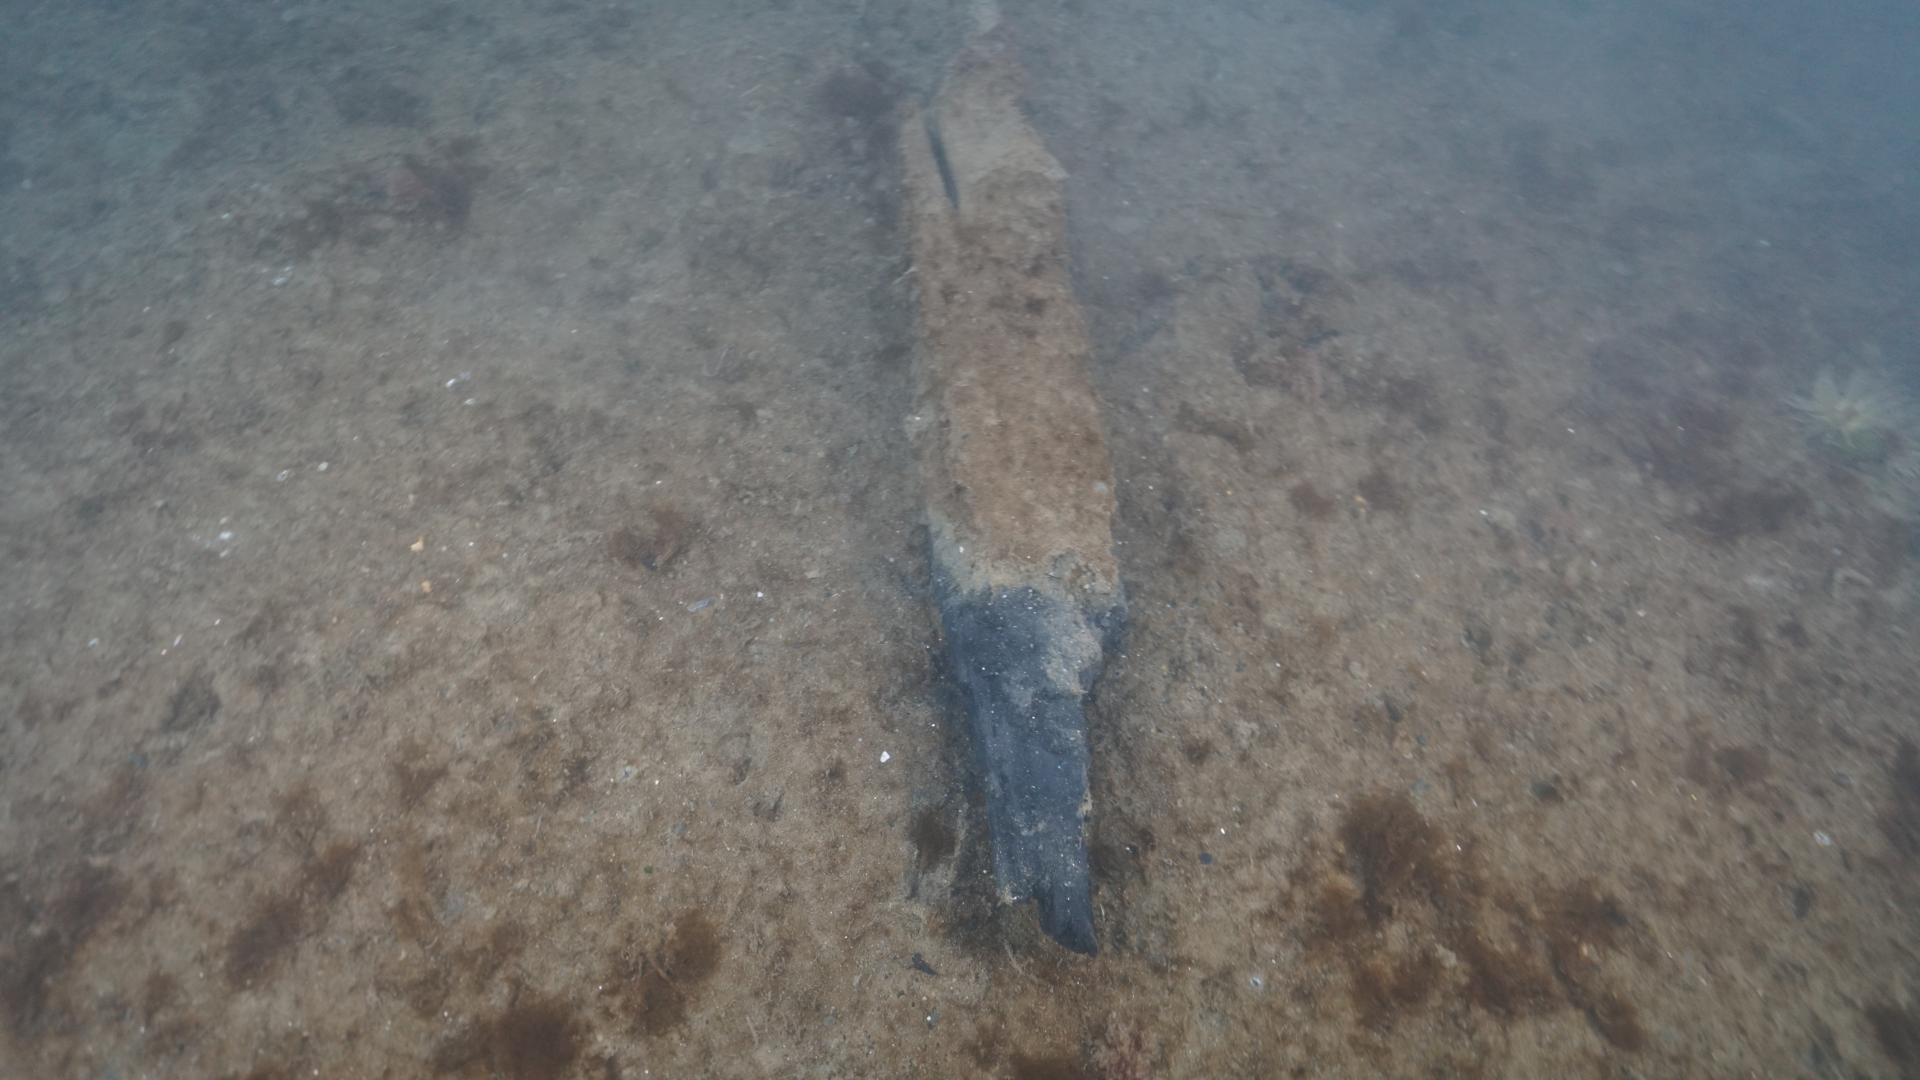wood: (860, 1, 1135, 963)
